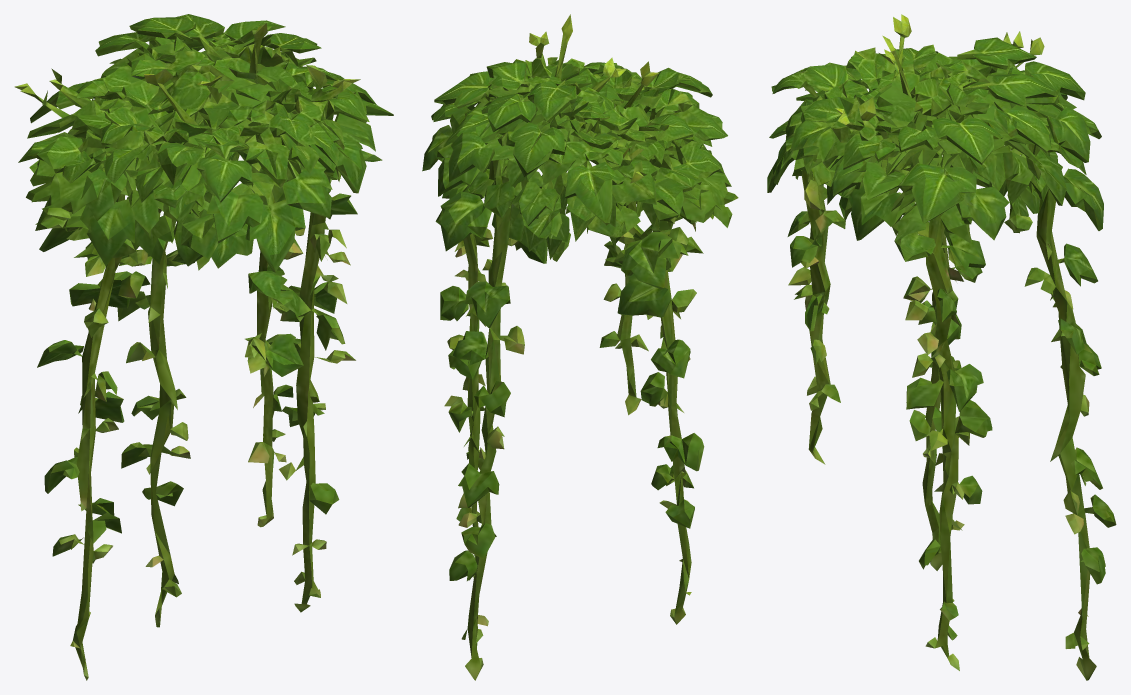
Rendered from emerald-cascade.glb.
The picture shows the model from 3 angles, left to right: view 1: azimuth 30°, elevation 25°; view 2: azimuth 150°, elevation 25°; view 3: azimuth 270°, elevation 25°; orthographic projection. The views are drawn at different scales.
Parts seen in each view (by area): view 1: output_unwrapped; view 2: output_unwrapped; view 3: output_unwrapped.
Boxes of the visible parts, x1,y1,x2,y2 form: output_unwrapped: [14, 14, 393, 680]; output_unwrapped: [422, 14, 738, 680]; output_unwrapped: [767, 14, 1116, 680].
Size of the model in its own units: 0.9953 by 1.91 by 0.9369.
Materials: 1 (1 with a texture image).
